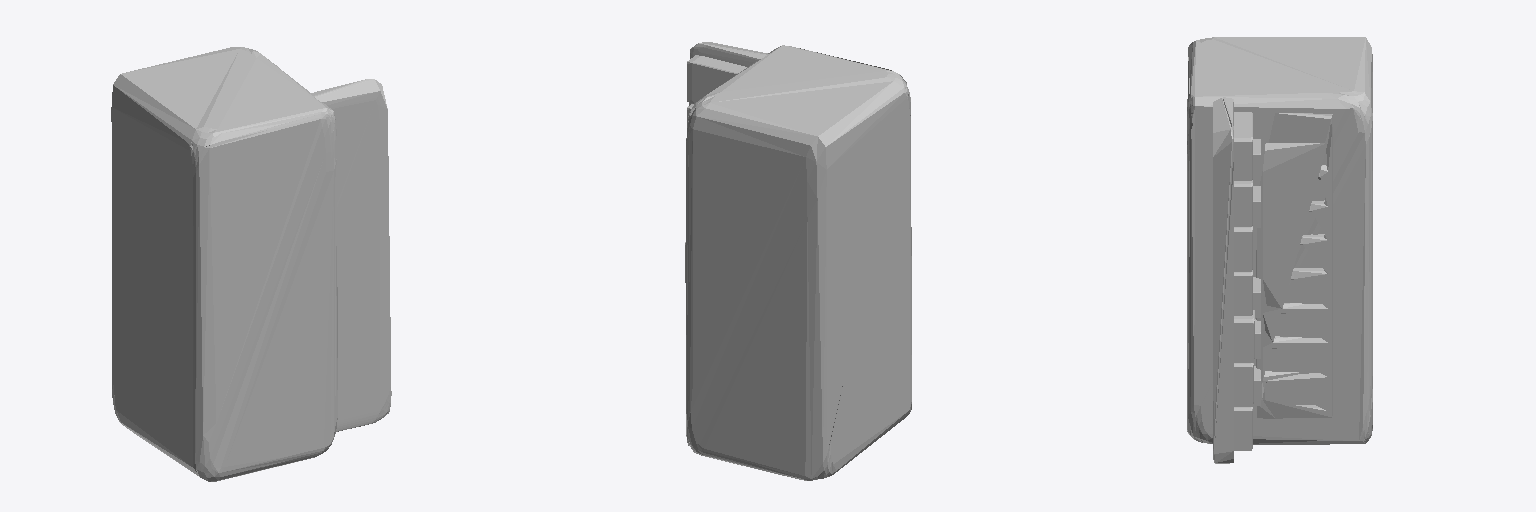
The model's file is sanfonaesq.obj.
The picture shows the model from 3 angles: view 1: azimuth 30°, elevation 25°; view 2: azimuth 150°, elevation 25°; view 3: azimuth 270°, elevation 25°; orthographic projection.
Visible parts, largest first — view 1: Vermelho; view 2: Vermelho, Branco; view 3: Vermelho, Branco, Preto.
Boxes of the visible parts, x1,y1,x2,y2 form: Vermelho: [111, 47, 391, 481]; Vermelho: [686, 42, 911, 480]; Branco: [685, 55, 746, 282]; Vermelho: [1187, 37, 1372, 463]; Branco: [1234, 112, 1254, 450]; Preto: [1253, 139, 1260, 405].
Bounding box in the file's own units: 0.9892 × 1.61 × 0.7782.